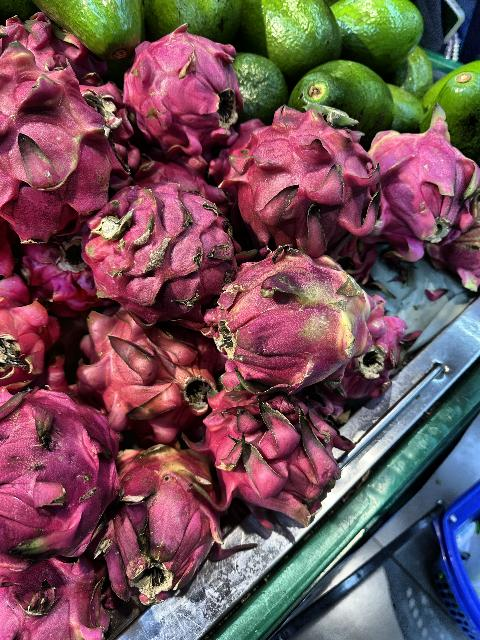buah-naga-belum-matang: (202, 249, 382, 383), (108, 444, 226, 602), (360, 118, 476, 255)
buah-naga-matang: (0, 372, 118, 554), (225, 120, 385, 250), (0, 40, 108, 232), (196, 383, 343, 513), (81, 186, 236, 308), (75, 304, 213, 426), (114, 34, 234, 144)
